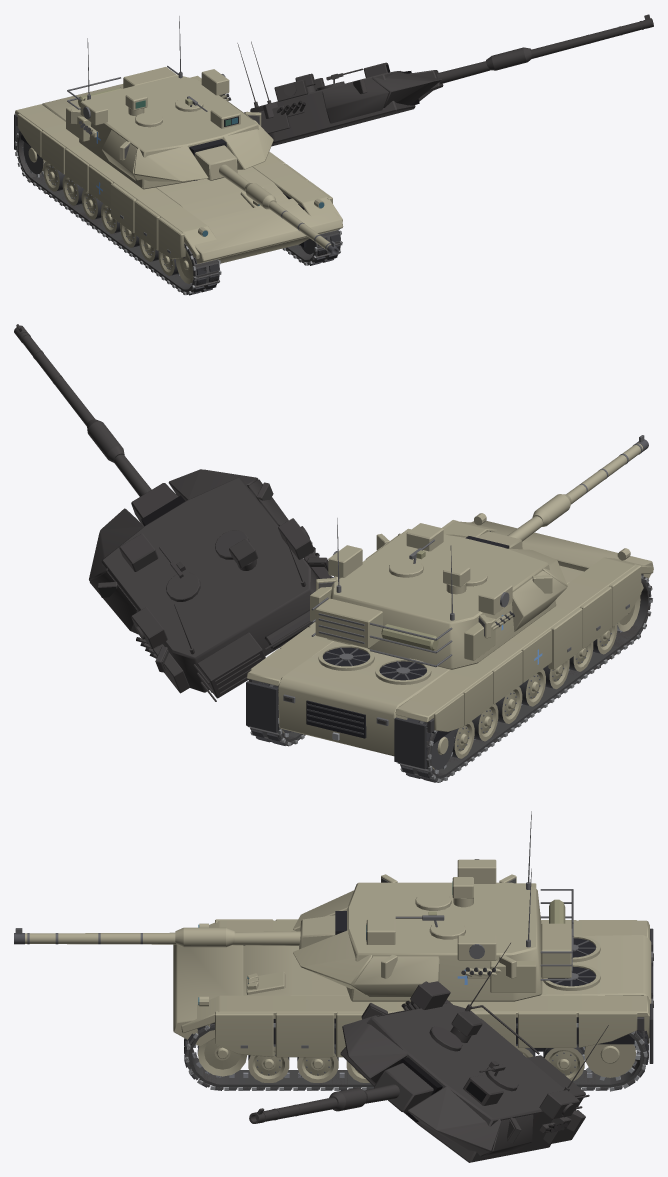
Rendered from tank__leopard_2a8.glb.
3 views of the same model, one above another, from view 1: azimuth 30°, elevation 25°; view 2: azimuth 150°, elevation 25°; view 3: azimuth 270°, elevation 25° (orthographic). The views are drawn at different scales.
Visible parts, largest first — view 1: Hull_Mesh, Turret_Mesh, Wreck, Track_L_Mesh, Gun_Mesh, Track_R_Mesh, Gunner_Sight_Mesh, Sprocket_L_Mesh, CITV_Mesh, Wheel_L0_Mesh, Wheel_L1_Mesh, Wheel_L2_Mesh; view 2: Wreck, Hull_Mesh, Turret_Mesh, Track_L_Mesh, Gun_Mesh, Gunner_Sight_Mesh, Track_R_Mesh, Hatch_Loader_Mesh, CITV_Mesh, Sprocket_L_Mesh, Wheel_L1_Mesh, Wheel_L2_Mesh (+1 smaller); view 3: Hull_Mesh, Wreck, Turret_Mesh, Gun_Mesh, Track_R_Mesh, Sprocket_R_Mesh, Idler_R_Mesh, Wheel_R6_Mesh, Wheel_R0_Mesh, Wheel_R5_Mesh, Hatch_Loader_Mesh, Gunner_Sight_Mesh (+2 smaller).
Part boxes in pixels (x1,y1,x2,y2): Hull_Mesh: (14,84,343,264); Turret_Mesh: (66,65,273,189); Wreck: (14,14,653,295); Track_L_Mesh: (14,130,221,295); Gun_Mesh: (195,145,339,255); Track_R_Mesh: (282,229,342,265); Gunner_Sight_Mesh: (210,106,240,128); Sprocket_L_Mesh: (22,142,45,177); CITV_Mesh: (125,91,147,116); Wheel_L0_Mesh: (43,161,64,191); Wheel_L1_Mesh: (62,175,83,205); Wheel_L2_Mesh: (81,189,102,219); Wreck: (14,324,652,782); Hull_Mesh: (246,513,653,768); Turret_Mesh: (310,528,567,669); Track_L_Mesh: (397,574,652,782); Gun_Mesh: (476,435,648,549); Gunner_Sight_Mesh: (406,523,443,551); Track_R_Mesh: (247,681,305,746); Hatch_Loader_Mesh: (389,539,434,577); CITV_Mesh: (443,563,470,594); Sprocket_L_Mesh: (431,730,454,773); Wheel_L1_Mesh: (472,704,498,741); Wheel_L2_Mesh: (495,686,522,723); Hull_Mesh: (173,919,653,1063); Wreck: (184,943,648,1162); Turret_Mesh: (293,859,573,1001); Gun_Mesh: (14,915,335,949); Track_R_Mesh: (184,1022,648,1091); Sprocket_R_Mesh: (582,1040,640,1080); Idler_R_Mesh: (197,1039,247,1076); Wheel_R6_Mesh: (248,1044,289,1082); Wheel_R0_Mesh: (543,1044,584,1080); Wheel_R5_Mesh: (297,1044,338,1082); Hatch_Loader_Mesh: (395,911,465,939); Gunner_Sight_Mesh: (366,919,395,944).
Size of what is drawn, in the model's own units: 11.98 by 3.76 by 10.56.
